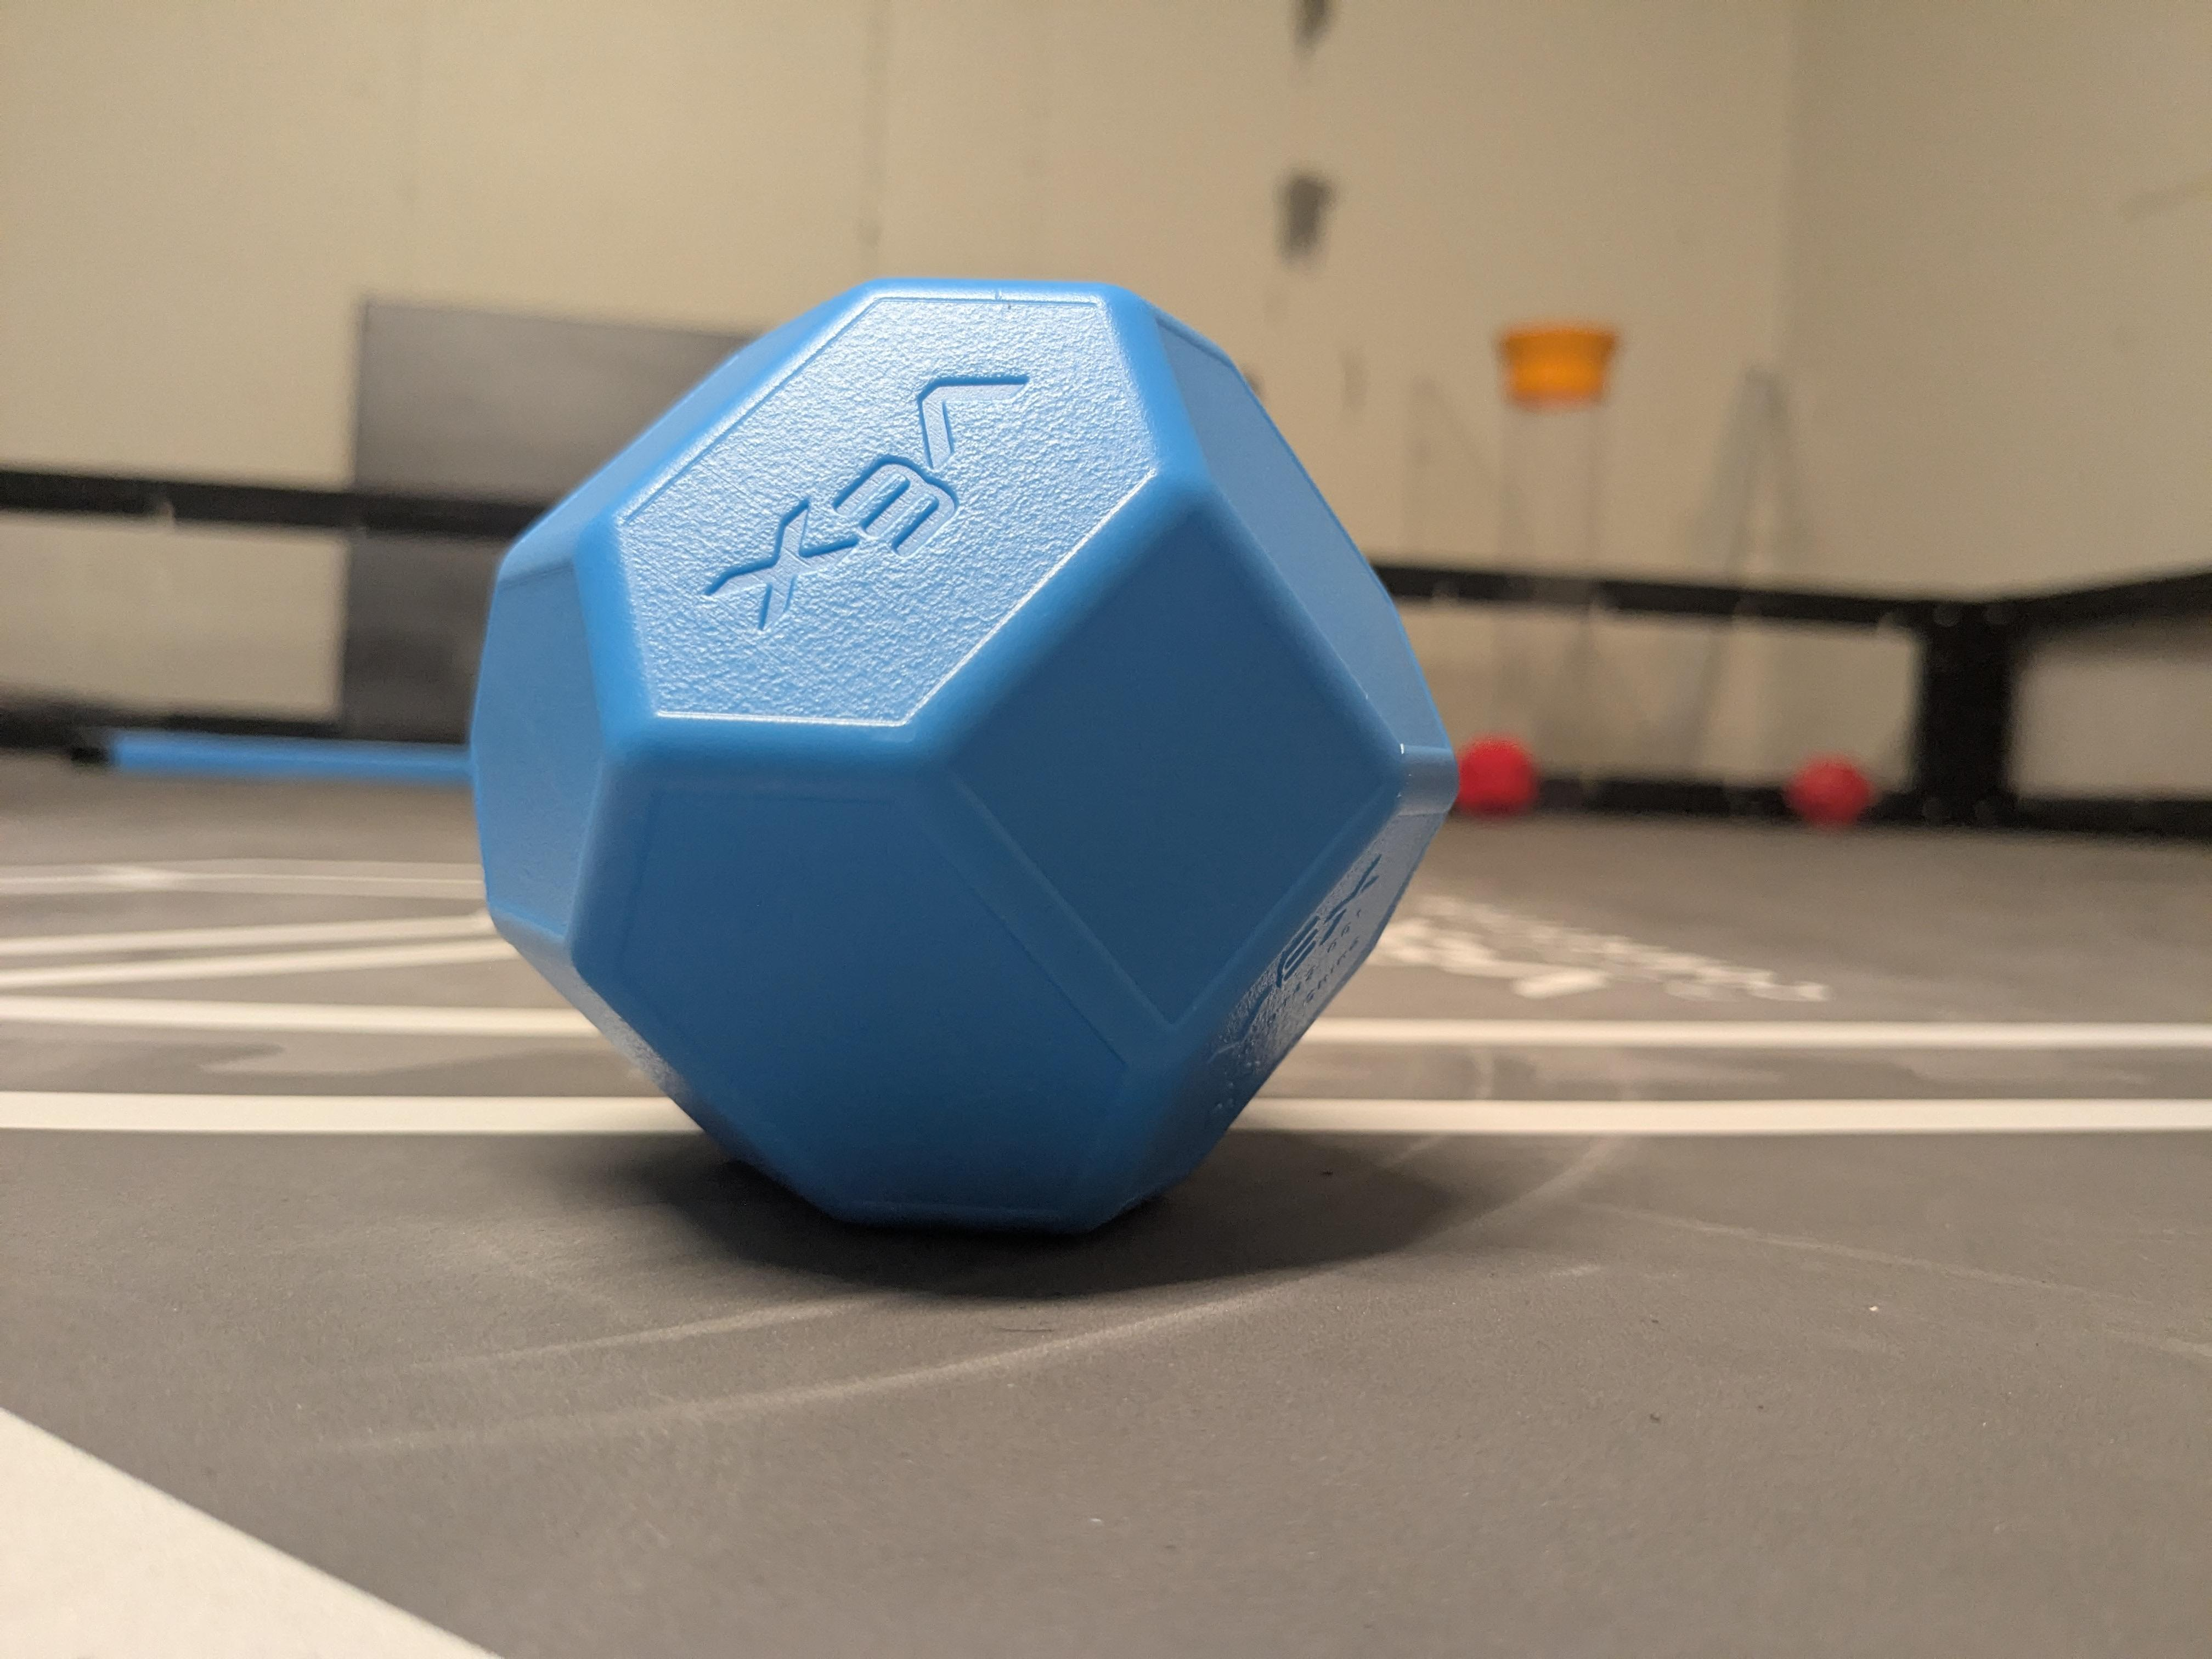Vex-Pieces-BLUE: (479, 279, 1479, 1244)
